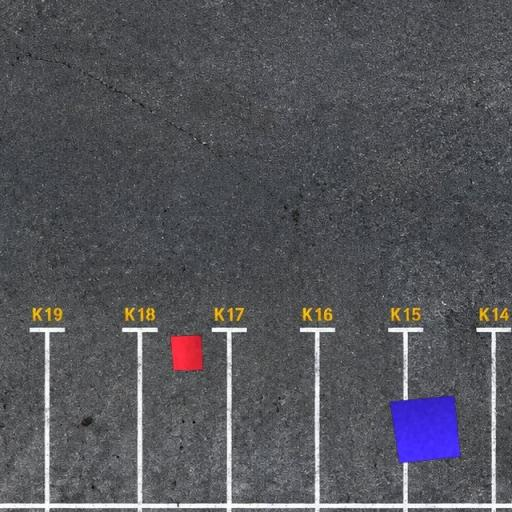BLUE_SQUARE: (389, 394, 461, 464)
RED_SQUARE: (170, 334, 204, 372)
